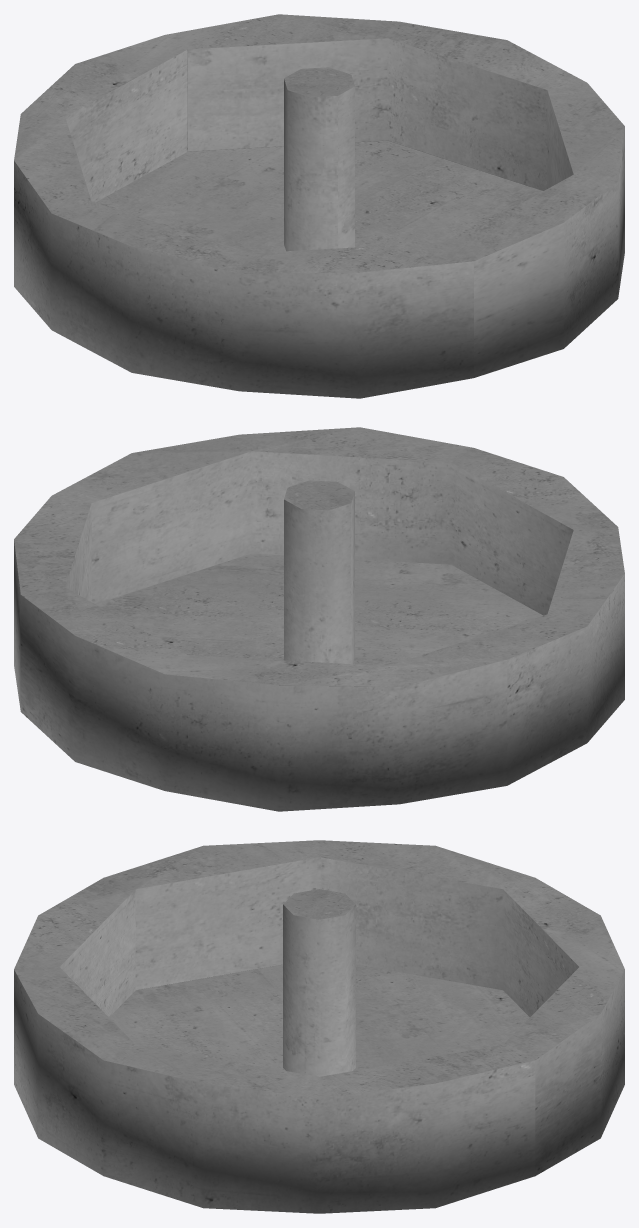
The model's file is fountain.fbx.
3 views of the same model, one above another, from view 1: azimuth 30°, elevation 25°; view 2: azimuth 150°, elevation 25°; view 3: azimuth 270°, elevation 25° (orthographic).
Visible parts, largest first — view 1: Fountain_Baked; view 2: Fountain_Baked; view 3: Fountain_Baked.
Boxes of the visible parts, <box> form: Fountain_Baked: <box>14,14,624,398</box>; Fountain_Baked: <box>14,427,624,811</box>; Fountain_Baked: <box>14,840,624,1213</box>.
Bounding box in the file's own units: 231 × 77.08 × 231.
1 material, 1 textured.
